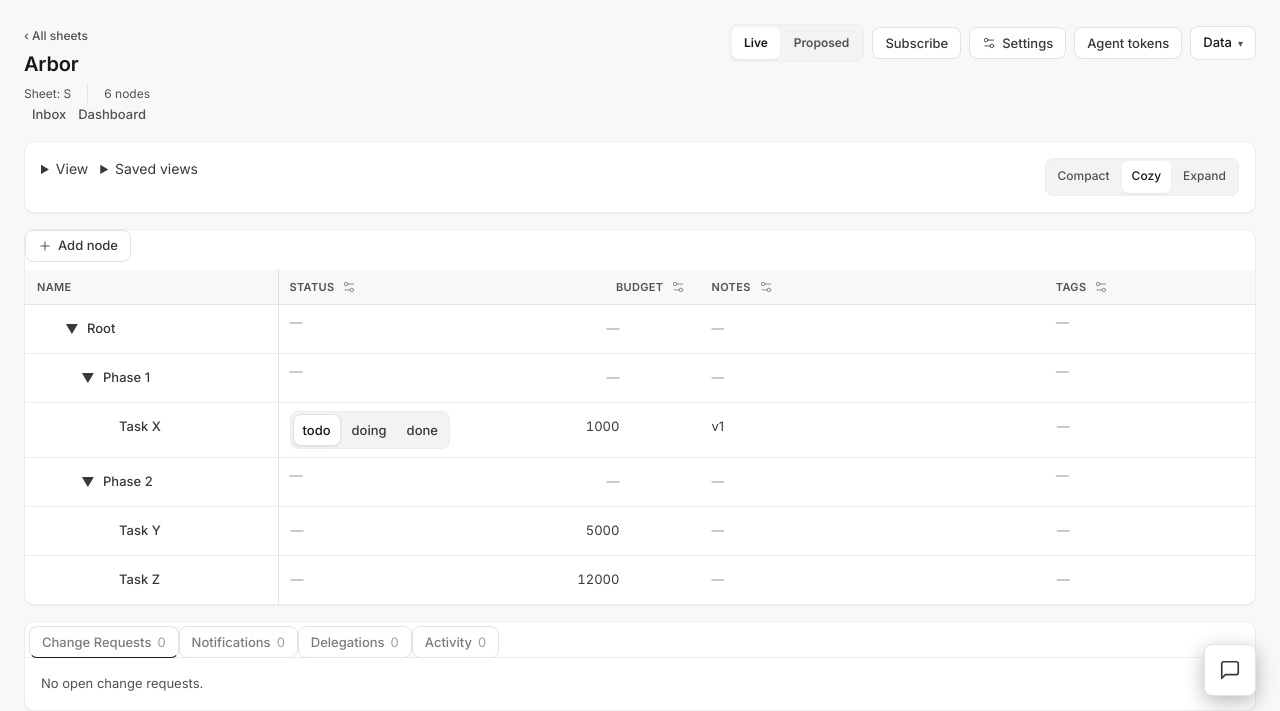
Test case: App — snapshot-driven shell wiring › proposed mode relocates a moved node from an open move CR and tags the row
The width and height of the screenshot is (1280, 711).
Expected: the table with test id "tree-table" is shown, [25,270,1255,604]
What coordinates should you click on to do the following:
click the button with test id "view-mode-proposed"
I would click on:
 (822, 43)
Its box is [782,27,861,59].
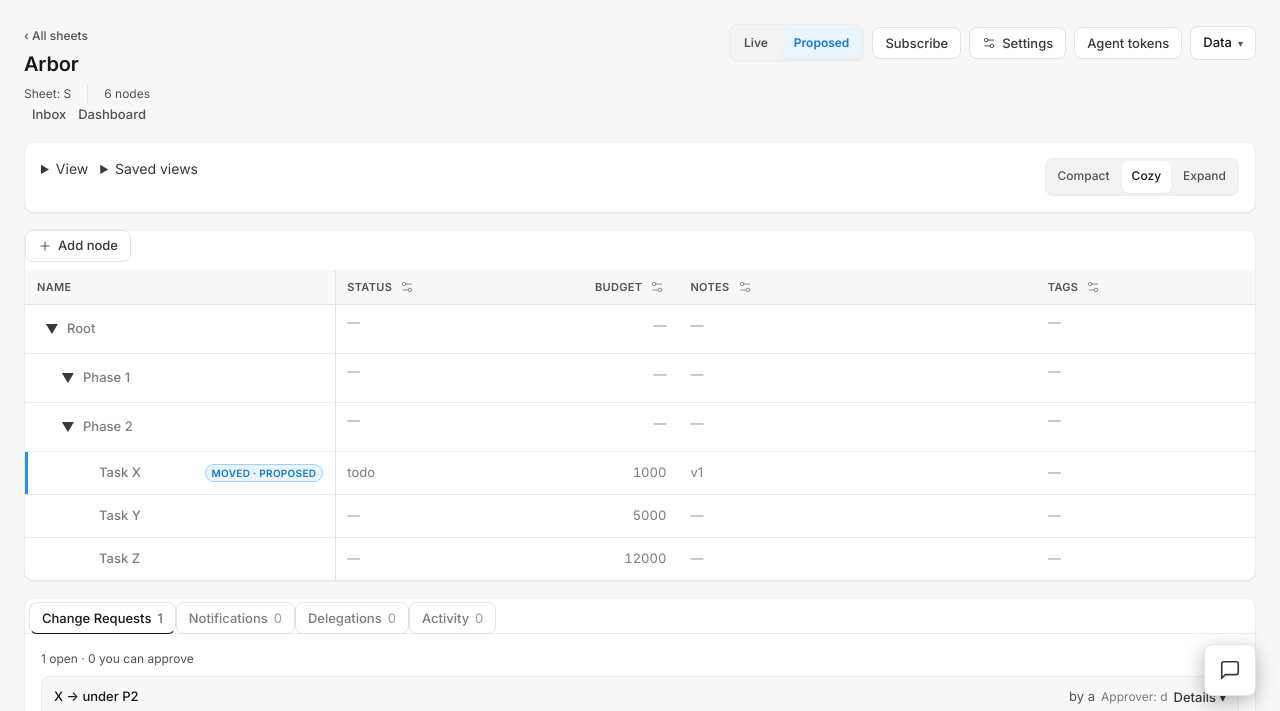
Expected: the text "moved · proposed" is shown, [205,464,323,482]
